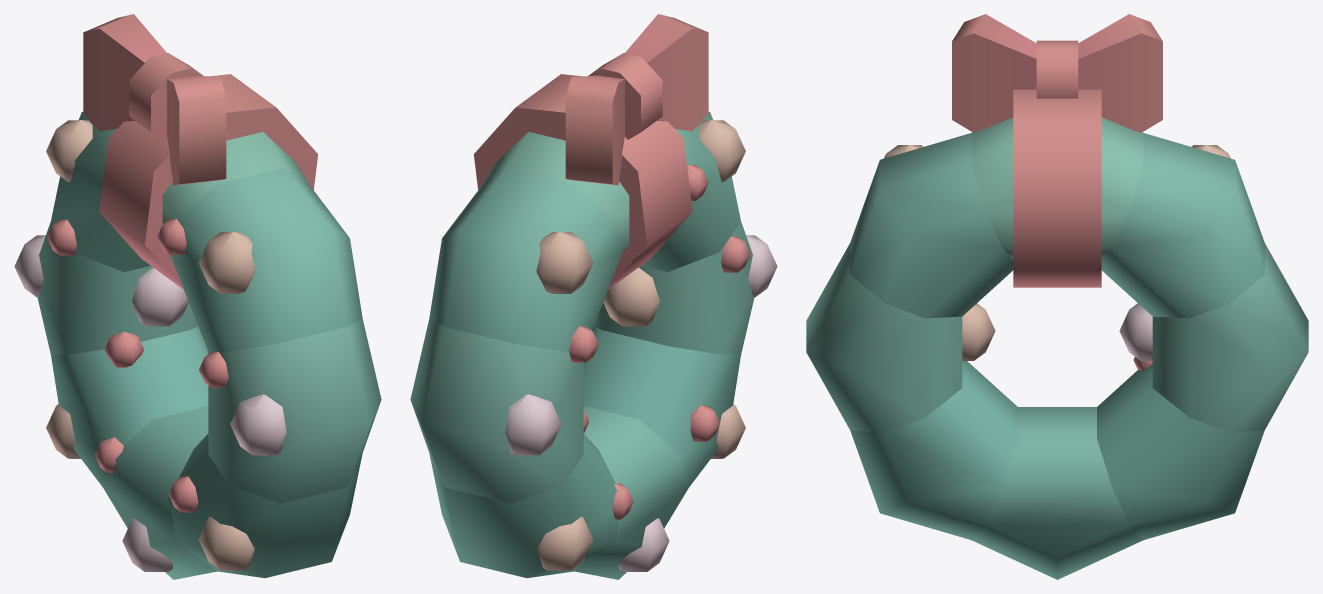
File: wreath-decorated (%wall).glb
The picture shows the model from 3 angles, left to right: view 1: azimuth 30°, elevation 25°; view 2: azimuth 150°, elevation 25°; view 3: azimuth 270°, elevation 25°; orthographic projection. The views are drawn at different scales.
Parts seen in each view (by area): view 1: wreath-decorated (%wall); view 2: wreath-decorated (%wall); view 3: wreath-decorated (%wall).
Part boxes in pixels (bbox=[...]): wreath-decorated (%wall): bbox=[14, 14, 381, 579]; wreath-decorated (%wall): bbox=[410, 14, 777, 579]; wreath-decorated (%wall): bbox=[806, 14, 1308, 579].
Size of the model in its own units: 0.2593 by 0.7624 by 0.6714.
